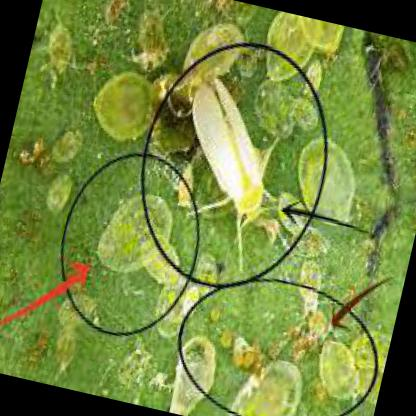whitefly: (193, 78, 267, 211)
